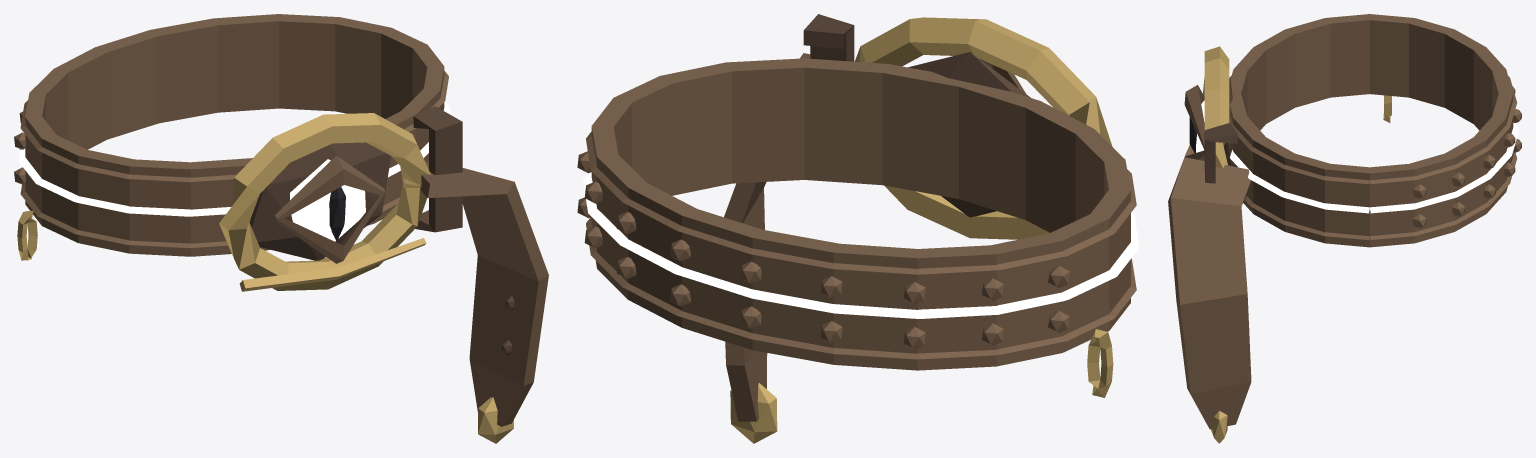
The model's file is relic-buckle.glb.
3 views of the same model, side by side, from view 1: azimuth 30°, elevation 25°; view 2: azimuth 150°, elevation 25°; view 3: azimuth 270°, elevation 25° (orthographic). The views are drawn at different scales.
Visible parts, largest first — view 1: buckle_body; view 2: buckle_body; view 3: buckle_body.
Part boxes in pixels (x1=…): buckle_body: x1=14, y1=14, x2=548, y2=443; buckle_body: x1=577, y1=14, x2=1139, y2=443; buckle_body: x1=1168, y1=14, x2=1521, y2=443.
Bounding box in the file's own units: 0.4385 × 0.3827 × 0.3902.
